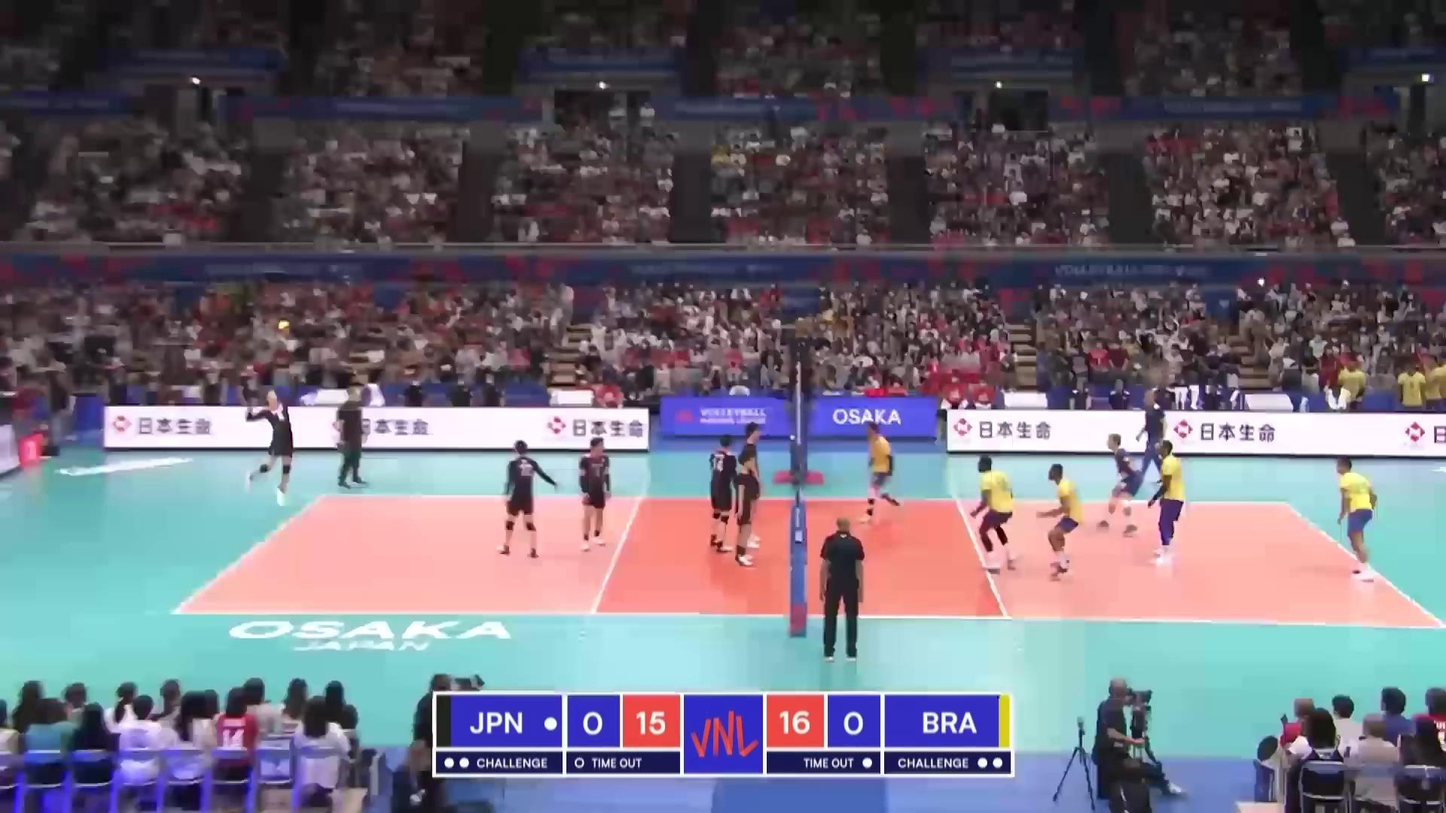player: (244, 384, 304, 507), (493, 441, 551, 560), (969, 456, 1020, 571), (1334, 459, 1379, 584), (856, 418, 908, 523), (1037, 463, 1080, 584), (1096, 433, 1144, 534), (1152, 439, 1189, 568), (576, 437, 616, 552), (732, 420, 764, 549), (706, 433, 740, 552), (730, 453, 757, 571)
refree: (813, 519, 864, 663), (789, 327, 815, 397)
